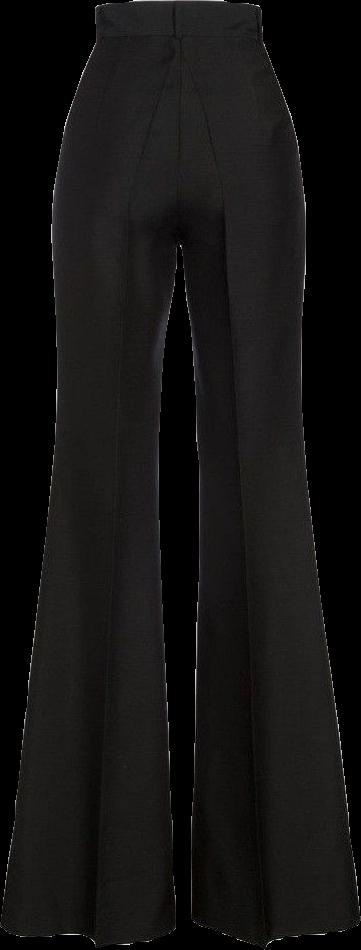Hemline: (189, 913, 360, 948), (0, 918, 177, 947)
Pantleg: (174, 1, 359, 945), (1, 1, 176, 945)
Waistline: (94, 27, 264, 47), (94, 0, 261, 17)
